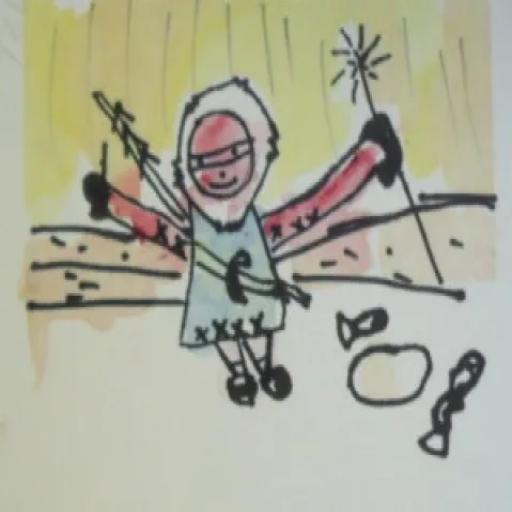person: (81, 74, 407, 416)
